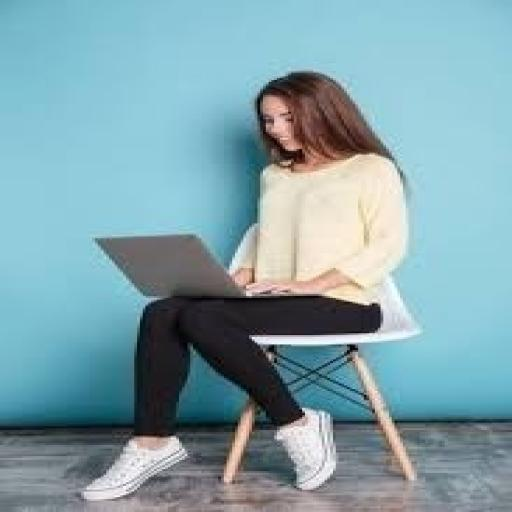using_laptop: (90, 231, 322, 300)
